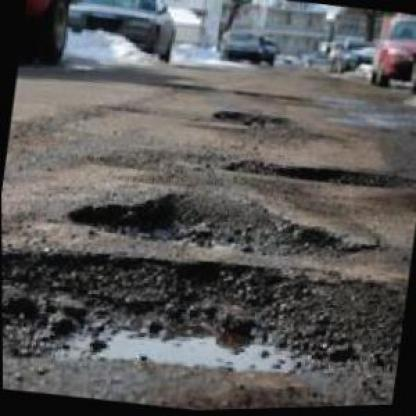pothole: (64, 171, 388, 280), (219, 146, 416, 202), (211, 102, 301, 139)
